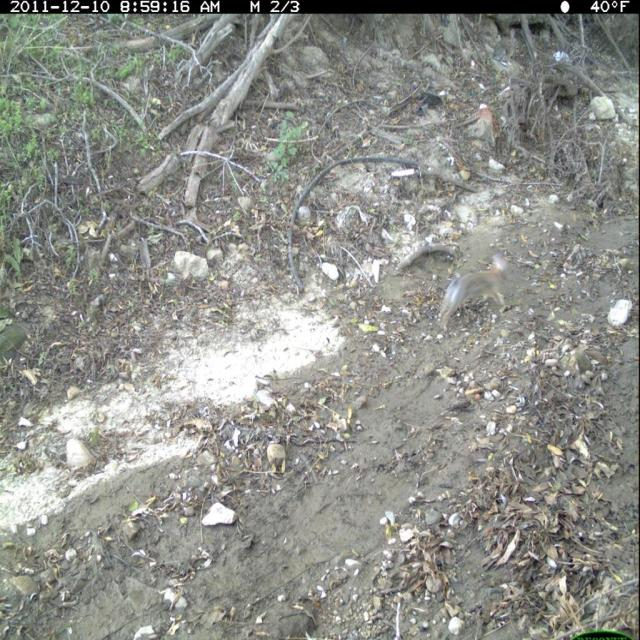rabbit: (437, 246, 521, 336)
